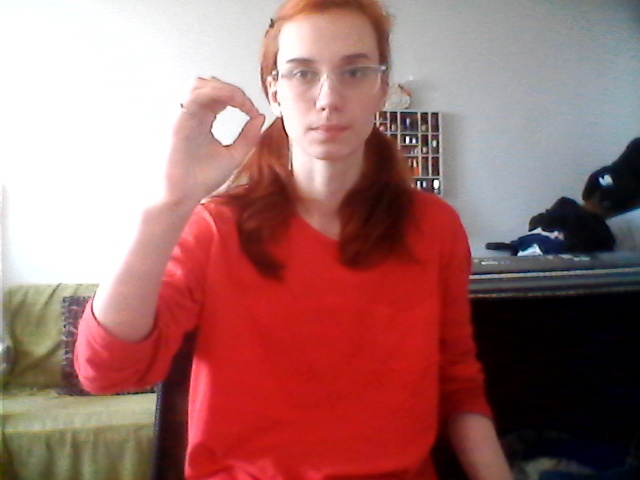o: (164, 69, 268, 198)
